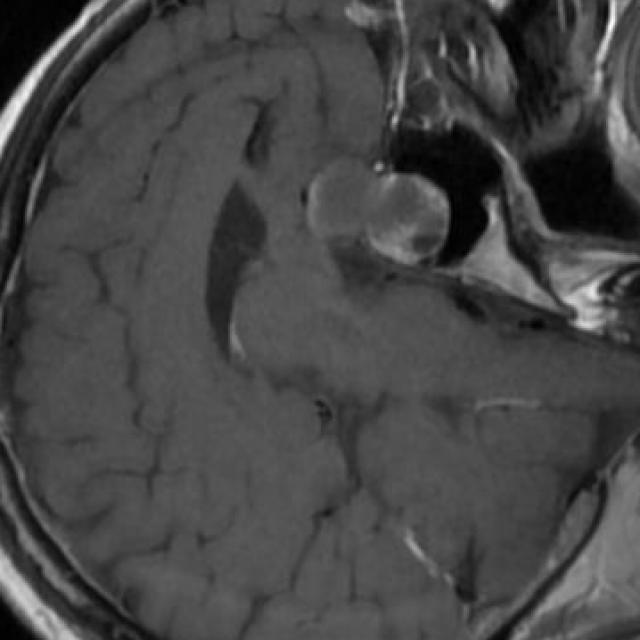pituitary: (307, 157, 449, 266)
